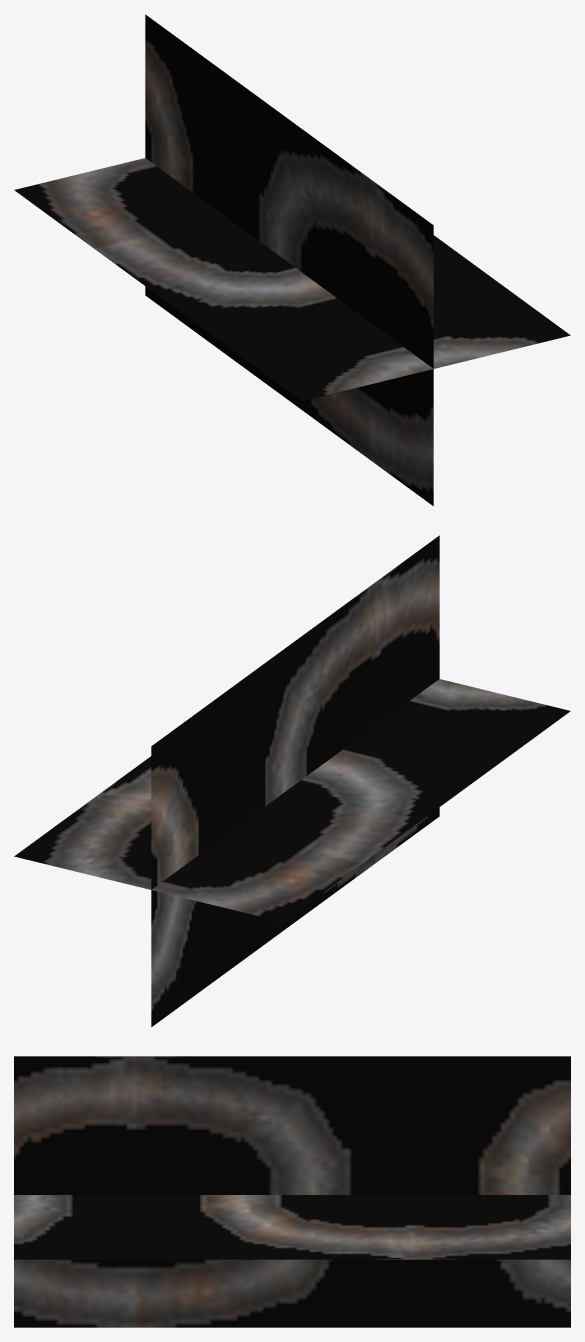
The model's file is Prop_SM_Chain(oneLinkSegment)_v2.fbx.
3 views of the same model, one above another, from view 1: azimuth 30°, elevation 25°; view 2: azimuth 150°, elevation 25°; view 3: azimuth 270°, elevation 25° (orthographic). The views are drawn at different scales.
Parts seen in each view (by area): view 1: ChainSegment; view 2: ChainSegment; view 3: ChainSegment.
Part boxes in pixels (x1,y1,x2,y2): ChainSegment: (14, 14, 570, 505); ChainSegment: (14, 535, 570, 1026); ChainSegment: (14, 1056, 570, 1327).
Bounding box in the file's own units: 0.2241 × 0.2241 × 0.4165.
Materials: 1 (1 with a texture image).
